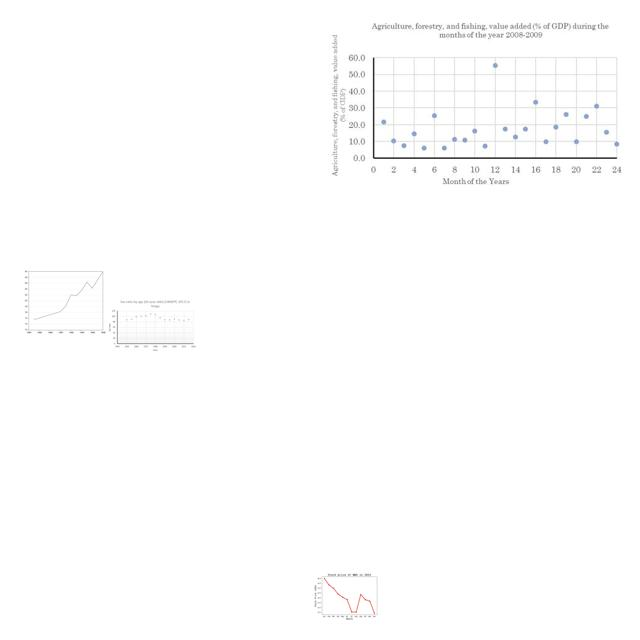Graph: (324, 13, 626, 192), (23, 269, 107, 335), (107, 299, 198, 353), (313, 569, 384, 622)
